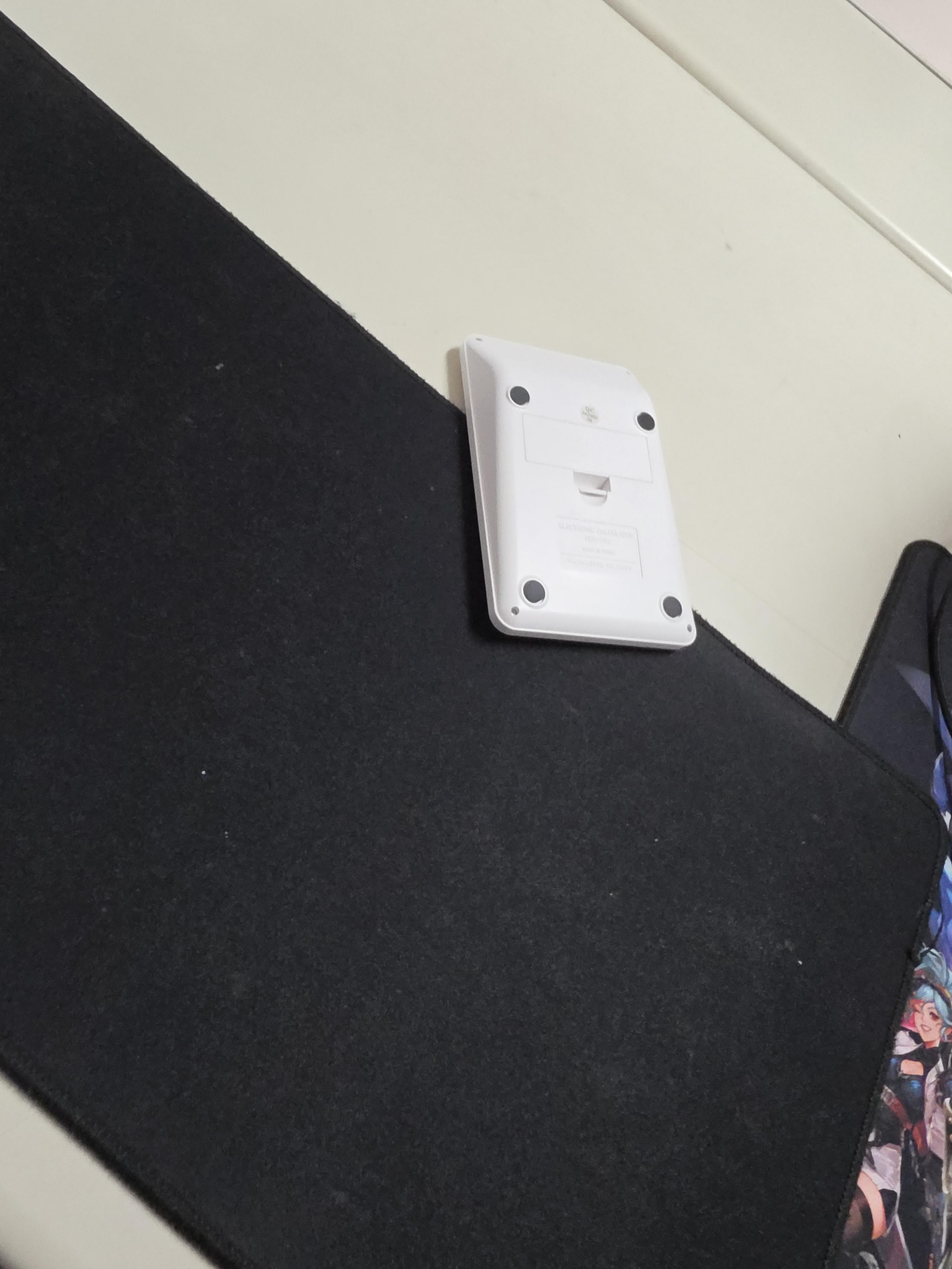calculator: (460, 334, 697, 649)
